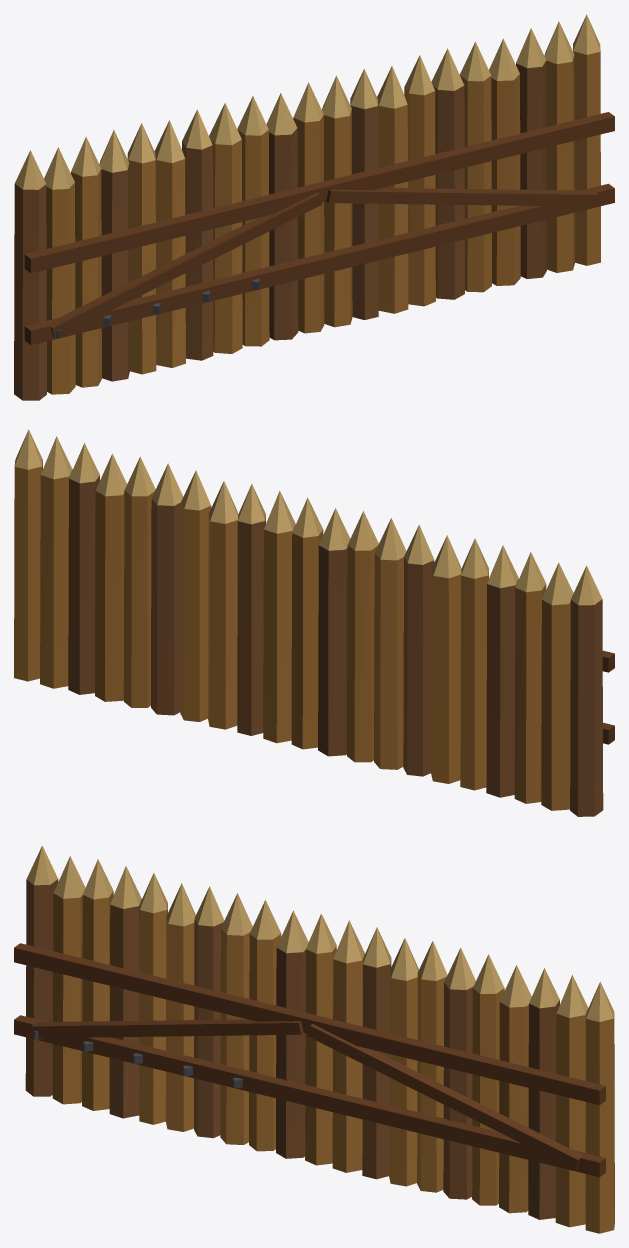
3 views of the same model, one above another, from view 1: azimuth 30°, elevation 25°; view 2: azimuth 150°, elevation 25°; view 3: azimuth 330°, elevation 25° (orthographic).
Parts seen in each view (by area): view 1: WK_W03_LOD1_Balanced; view 2: WK_W03_LOD1_Balanced; view 3: WK_W03_LOD1_Balanced.
Boxes of the visible parts, bbox=[...] form: WK_W03_LOD1_Balanced: bbox=[14, 14, 614, 400]; WK_W03_LOD1_Balanced: bbox=[14, 429, 614, 816]; WK_W03_LOD1_Balanced: bbox=[14, 845, 614, 1233].
Bounding box in the file's own units: 8 × 3.2 × 0.65.
